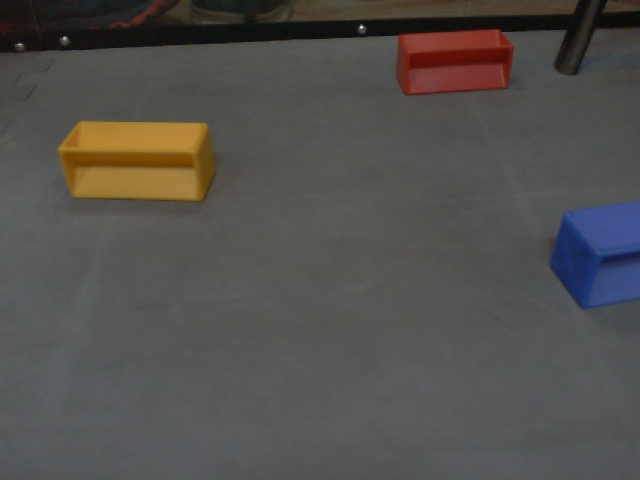BlueSample: (547, 199, 640, 311)
RedSample: (394, 29, 513, 96)
YellowSample: (57, 118, 216, 204)
